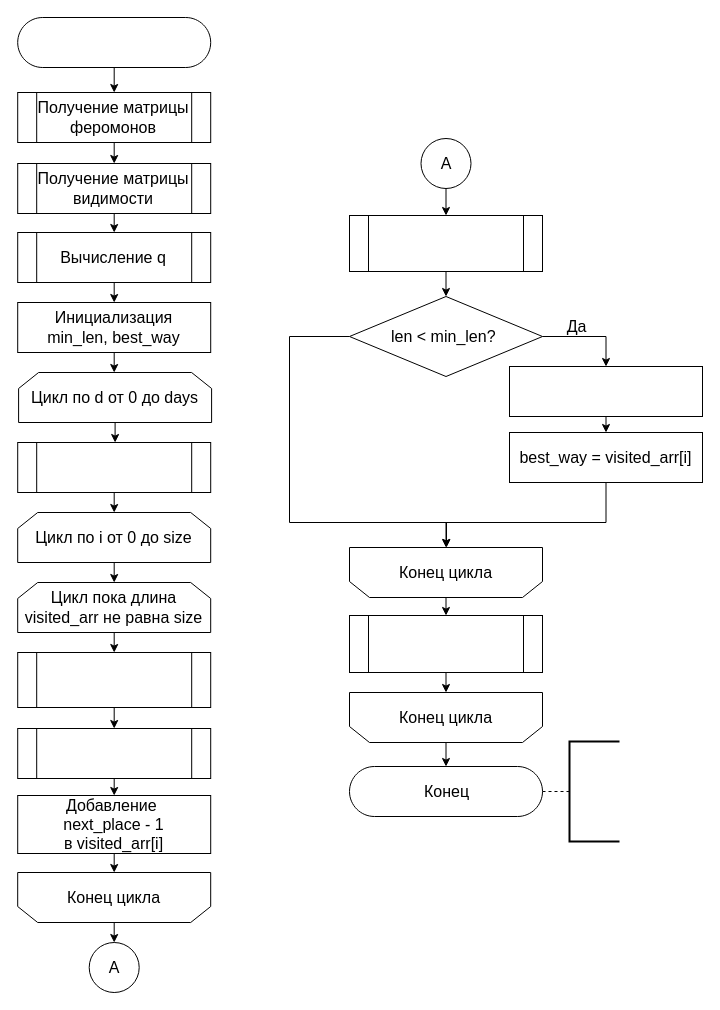
The diagram is 720 pixels wide and 1010 high, and some of its shapes have lost their labels. Here are the shapes that lost their labels. From the top down, the centre of each, then its label:
At (114,42): "Начало".
At (445,243): "Вычисление суммарной длины пути len".
At (605,391): "min_len = len".
At (114,467): "Инициализация списка visited_arr".
At (445,643): "Обновление матрицы феромонов".
At (114,680): "Поиск вероятности перехода в следующие города".
At (114,753): "Выбор next_place".
At (594,791): "Возврат min_len".
